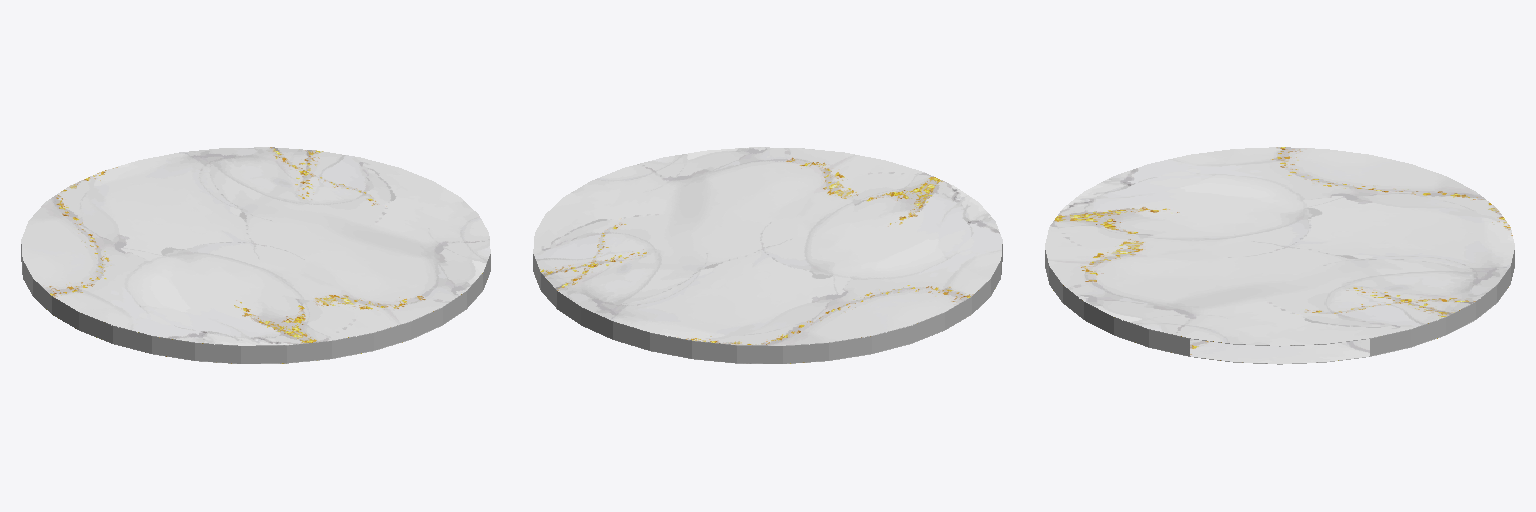
3 views of the same model, side by side, from view 1: azimuth 30°, elevation 25°; view 2: azimuth 150°, elevation 25°; view 3: azimuth 270°, elevation 25° (orthographic).
Visible parts, largest first — view 1: techo, estructura; view 2: techo, estructura; view 3: techo, estructura, piso.
Boxes of the visible parts, x1=… form: techo: x1=21, y1=147, x2=490, y2=345; estructura: x1=21, y1=244, x2=490, y2=363; techo: x1=533, y1=147, x2=1002, y2=345; estructura: x1=533, y1=244, x2=1002, y2=363; techo: x1=1045, y1=147, x2=1514, y2=346; estructura: x1=1045, y1=250, x2=1514, y2=355; piso: x1=1045, y1=268, x2=1514, y2=364.
Size of the model in its own units: 318 by 14.2 by 318.
4 materials, 2 textured.